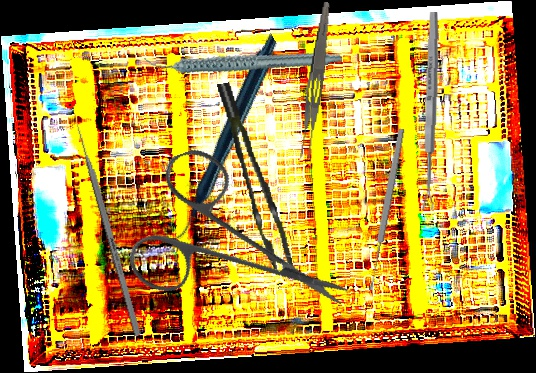Dressing Forceps: (296, 1, 334, 160)
Handpiece: (109, 33, 337, 242), (143, 16, 343, 104)
Iris Scissors: (99, 116, 353, 367)
Pusher: (69, 109, 143, 337)
Surgical Spoon: (365, 128, 407, 291), (420, 11, 441, 211)
Tissue Forceps: (217, 76, 293, 274)
